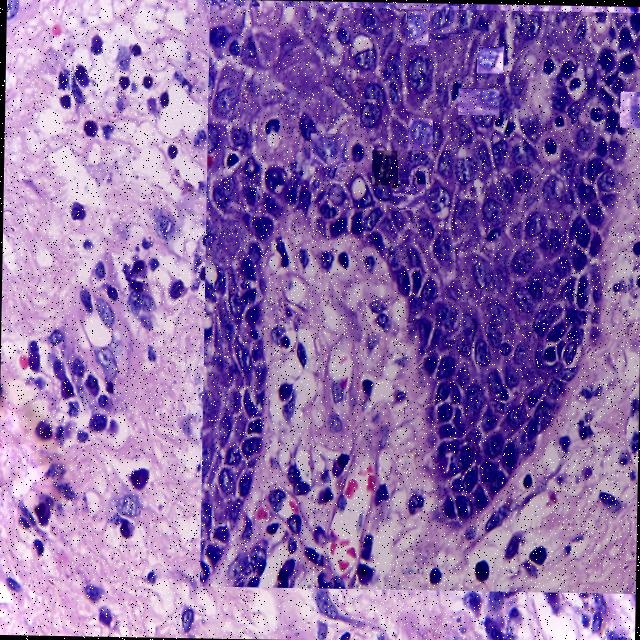Multiple Nucleol: (309, 132, 346, 166), (457, 87, 498, 113), (371, 149, 397, 185), (392, 183, 423, 209), (428, 4, 456, 32), (619, 90, 640, 126), (407, 117, 431, 148), (406, 10, 427, 43), (475, 47, 502, 71), (359, 100, 380, 126)
Nuclear Hyperchromatism: (199, 11, 640, 584)
